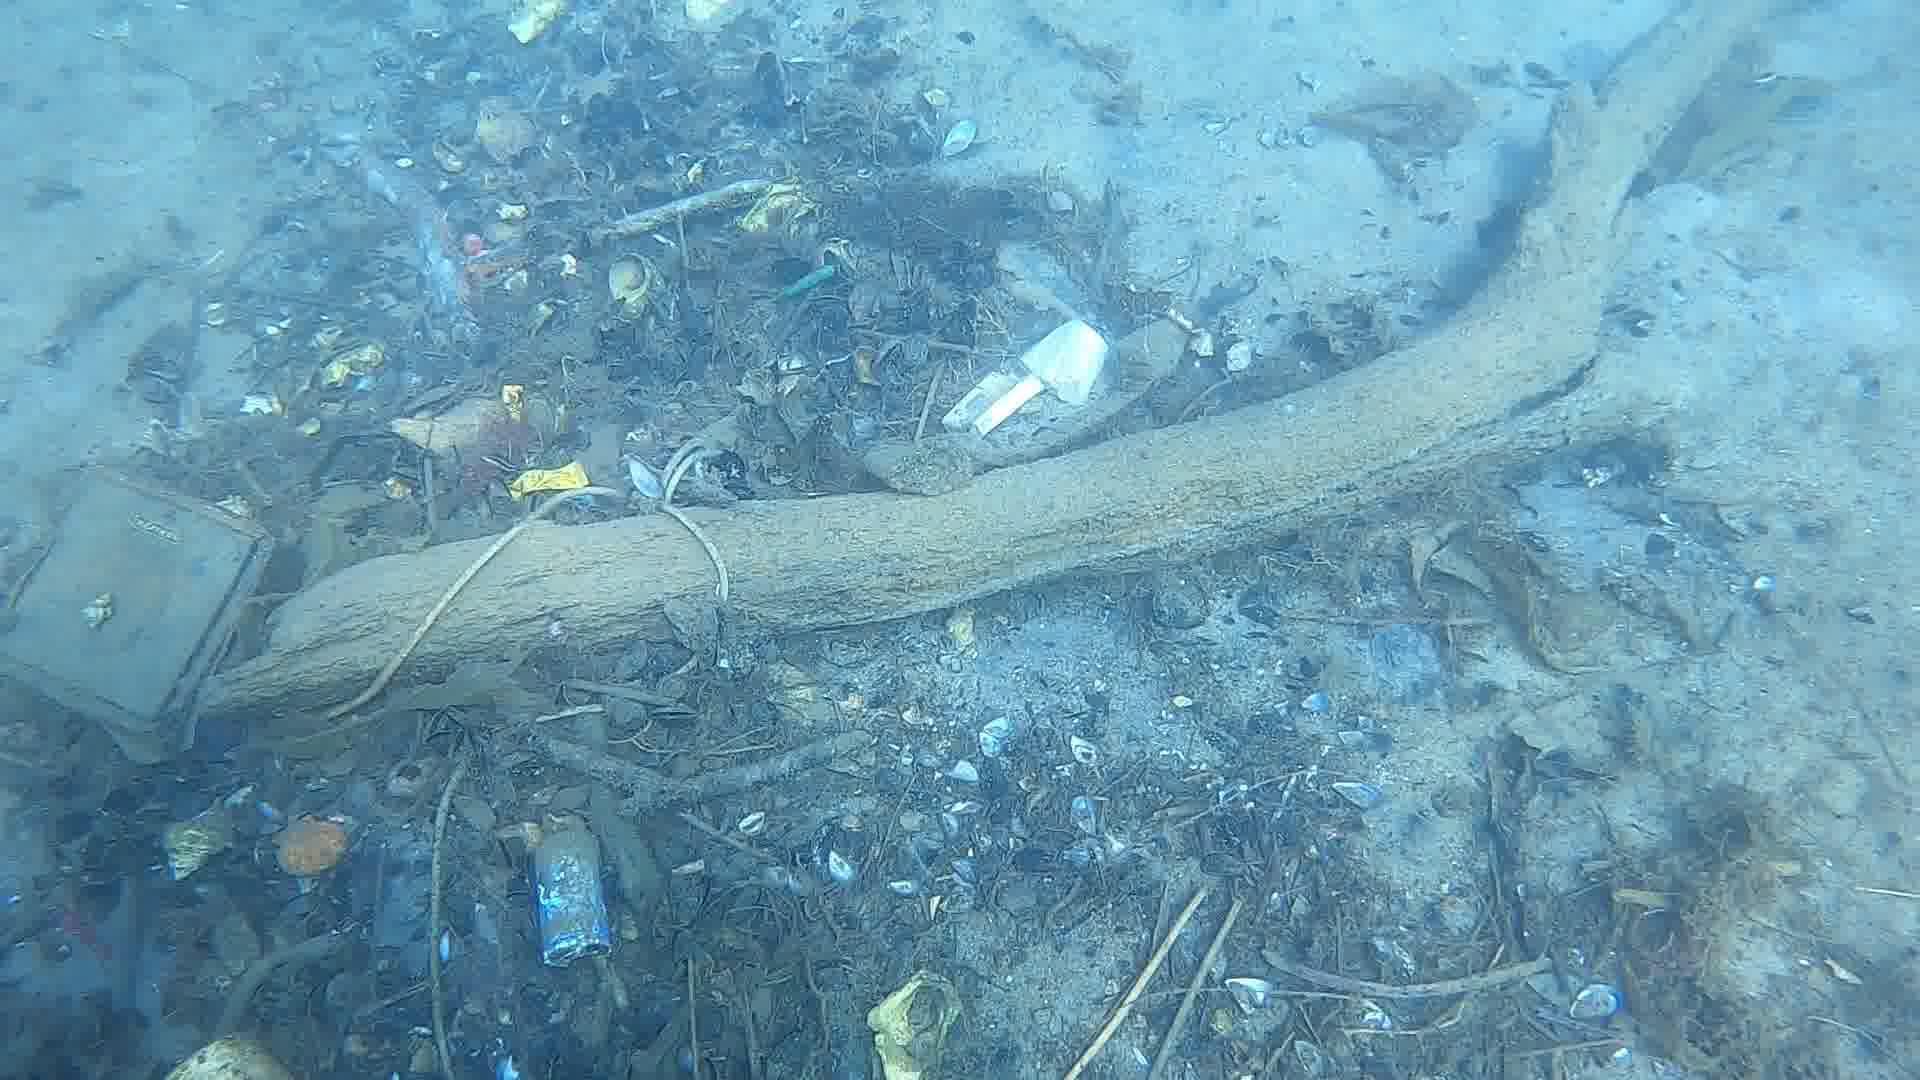wood: (194, 0, 1760, 721)
